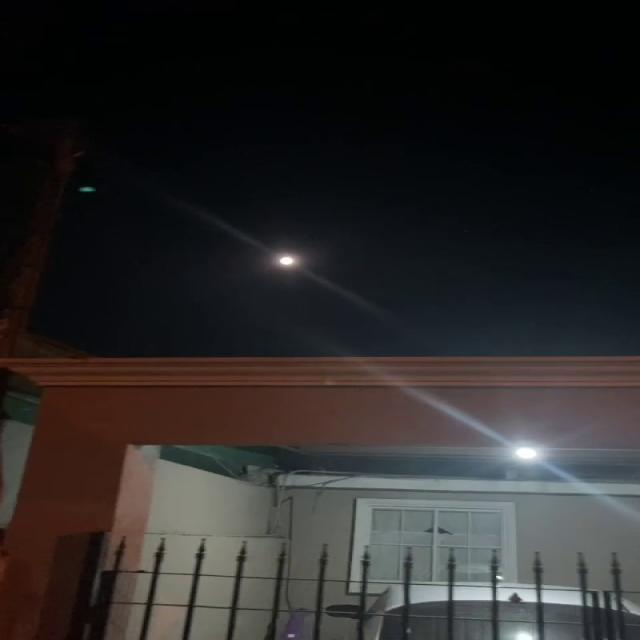moon: (264, 250, 322, 283)
